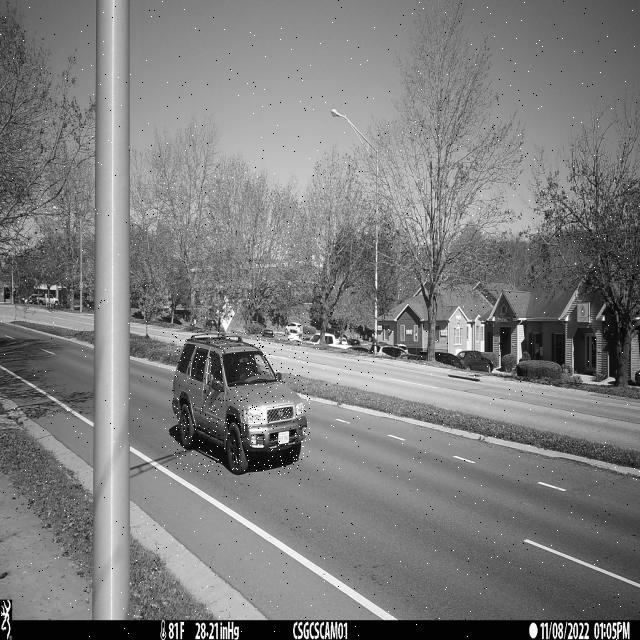SUV: (172, 332, 310, 475)
